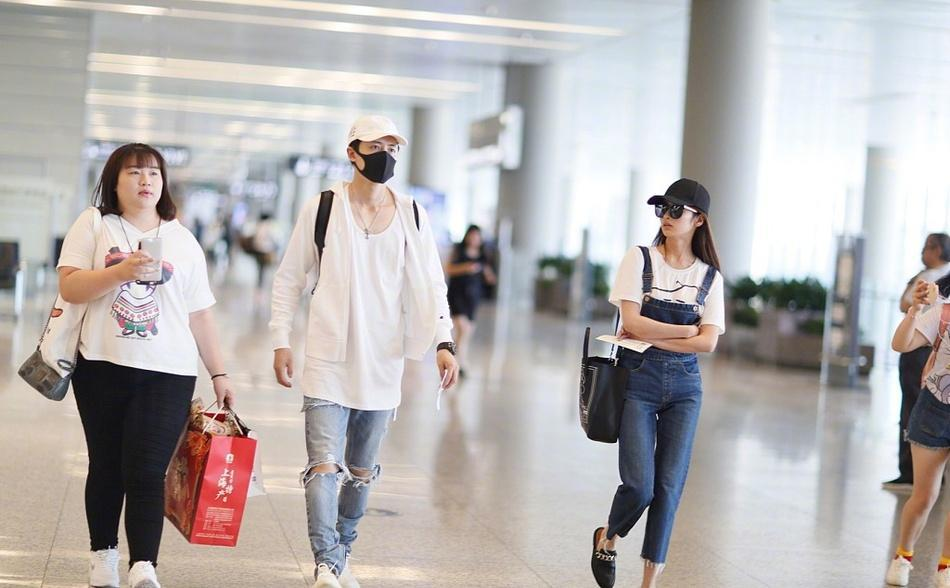NONE: (121, 162, 164, 206), (659, 203, 691, 236)
OK: (361, 136, 401, 183)
